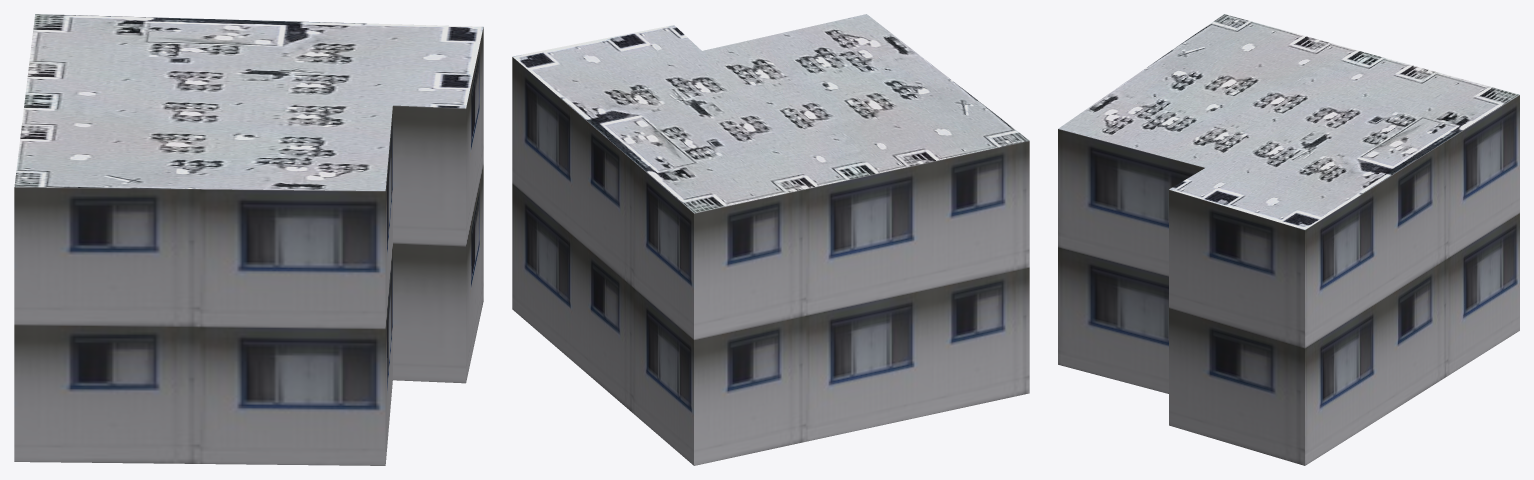
File: ResTex__4934.fbx
The picture shows the model from 3 angles, left to right: view 1: azimuth 30°, elevation 25°; view 2: azimuth 150°, elevation 25°; view 3: azimuth 270°, elevation 25°; orthographic projection. The views are drawn at different scales.
Visible parts, largest first — view 1: CityEngineMaterial_9_m, CityEngineMaterial_8_m; view 2: CityEngineMaterial_9_m, CityEngineMaterial_8_m; view 3: CityEngineMaterial_9_m, CityEngineMaterial_8_m.
Part boxes in pixels (x1,y1,x2,y2): CityEngineMaterial_9_m: (14, 27, 483, 465); CityEngineMaterial_8_m: (14, 14, 483, 190); CityEngineMaterial_9_m: (512, 57, 1029, 465); CityEngineMaterial_8_m: (512, 14, 1029, 213); CityEngineMaterial_9_m: (1058, 95, 1519, 465); CityEngineMaterial_8_m: (1058, 14, 1519, 229).
Bounding box in the file's own units: 11.79 × 6 × 10.65.
2 materials, 2 textured.
